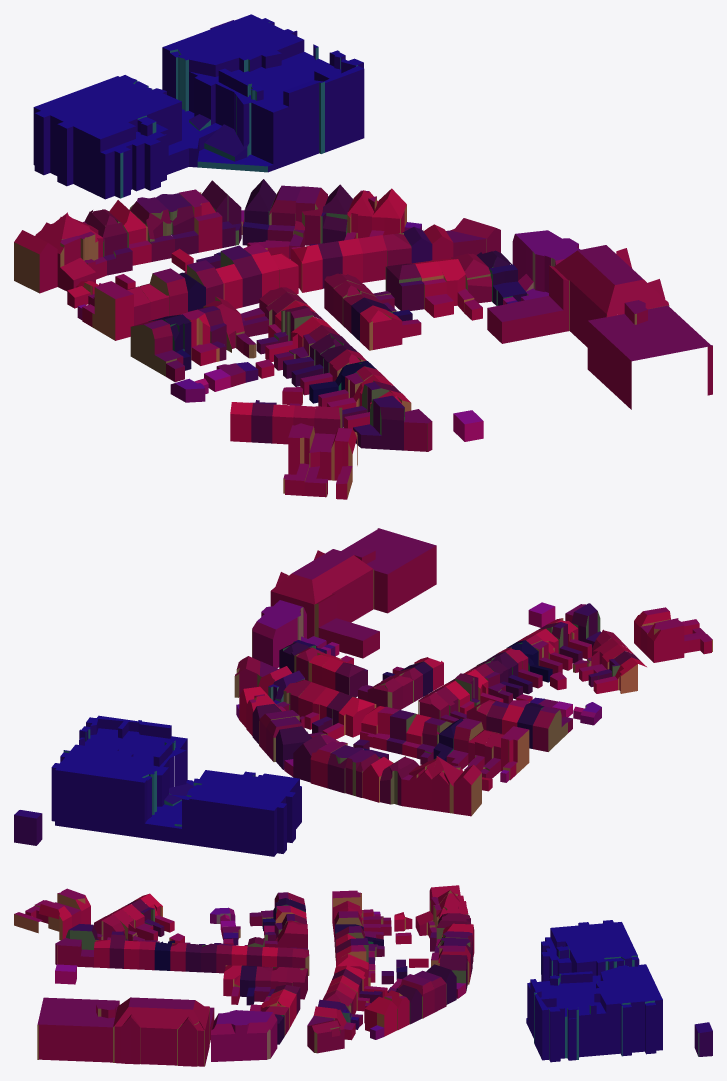
Rendered from buildings_8_6.glb.
3 views of the same model, one above another, from view 1: azimuth 30°, elevation 25°; view 2: azimuth 150°, elevation 25°; view 3: azimuth 270°, elevation 25° (orthographic). The views are drawn at different scales.
Visible parts, largest first — view 1: buildings_8_6; view 2: buildings_8_6; view 3: buildings_8_6.
Part boxes in pixels (x1=…): buildings_8_6: x1=14, y1=14, x2=712, y2=499; buildings_8_6: x1=14, y1=528, x2=712, y2=856; buildings_8_6: x1=14, y1=885, x2=712, y2=1066.
Bounding box in the file's own units: 109 × 16.73 × 206.
